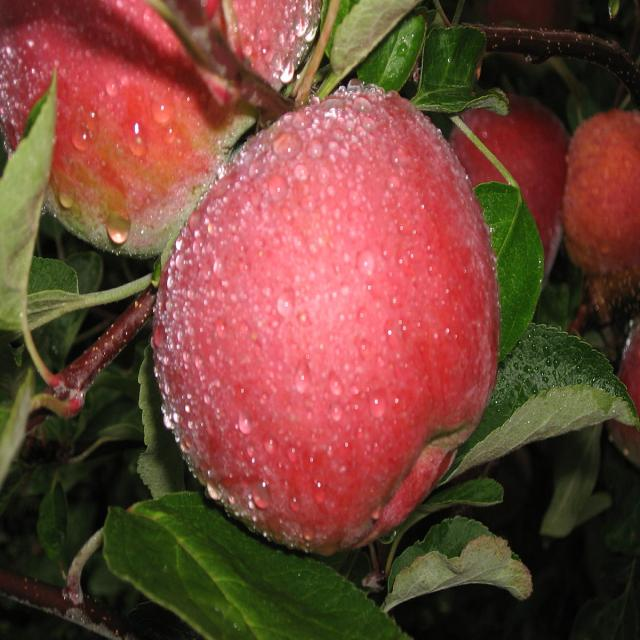Apple: (157, 82, 495, 569), (0, 0, 324, 256), (560, 103, 637, 299)
